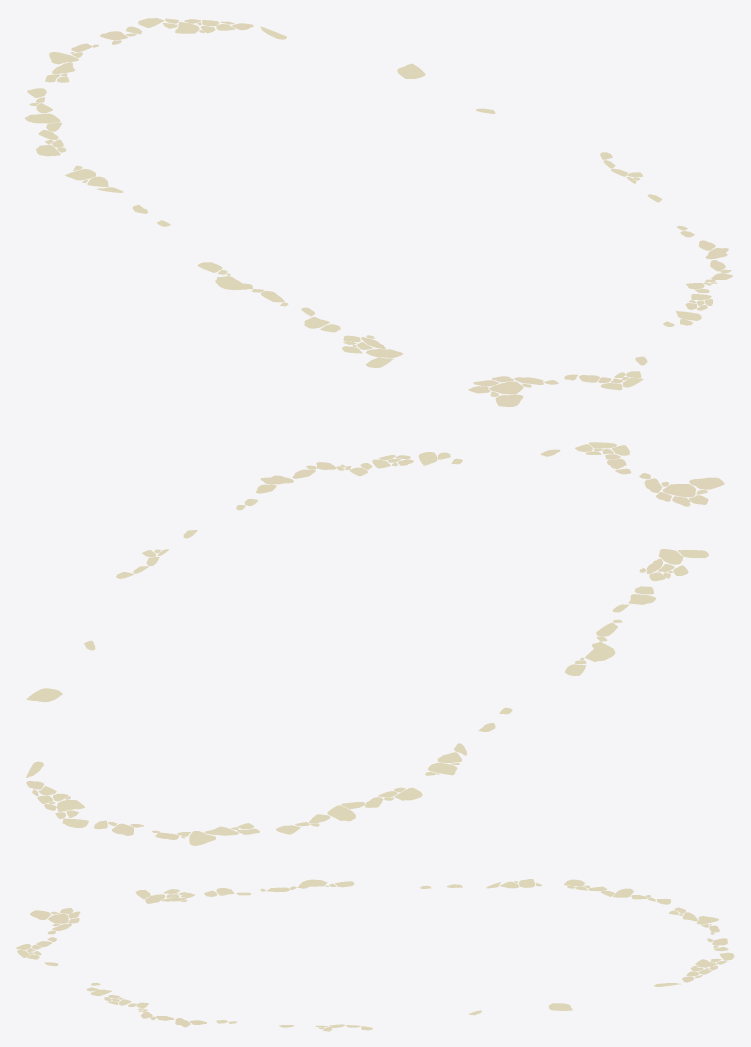
The model's file is Mesh_Home_BH_Land_04.fbx.
3 views of the same model, one above another, from view 1: azimuth 30°, elevation 25°; view 2: azimuth 150°, elevation 25°; view 3: azimuth 270°, elevation 25° (orthographic). The views are drawn at different scales.
Visible parts, largest first — view 1: Mesh_Home_BH_Land_04; view 2: Mesh_Home_BH_Land_04; view 3: Mesh_Home_BH_Land_04.
Part boxes in pixels (left/top/right/bottom): Mesh_Home_BH_Land_04: left=24, top=18, right=732, bottom=406; Mesh_Home_BH_Land_04: left=26, top=442, right=724, bottom=845; Mesh_Home_BH_Land_04: left=16, top=879, right=734, bottom=1031.
Size of the model in its own units: 2674 by 1.98 by 5288.
Materials: 1 (1 with a texture image).
